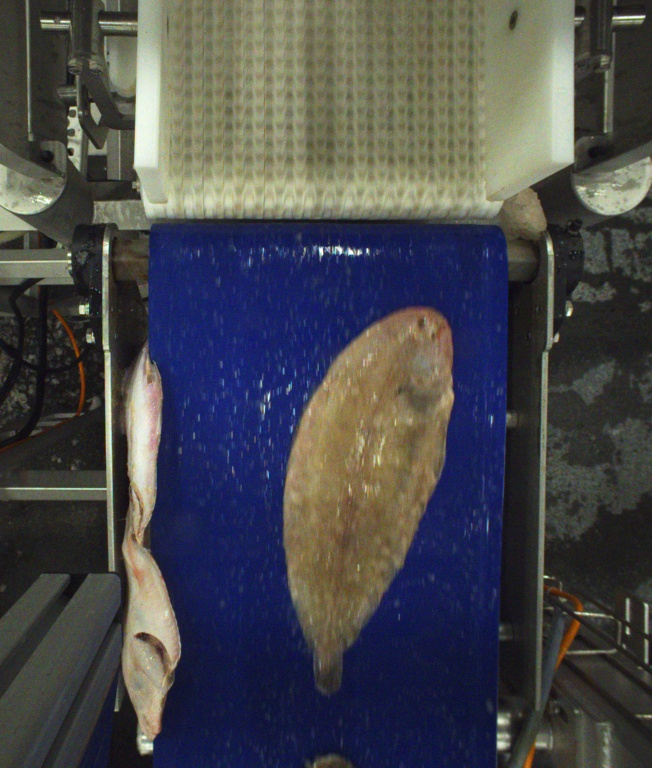SOL: (282, 305, 454, 690)
